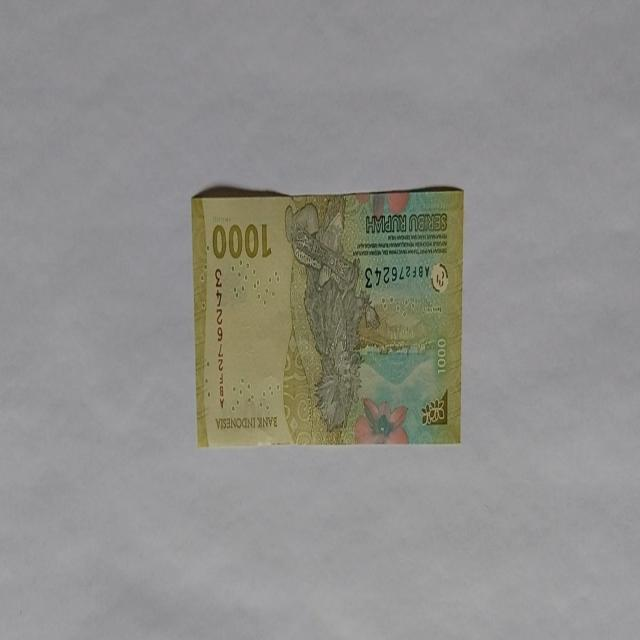seribu rupiah kertas: (190, 185, 464, 448)
